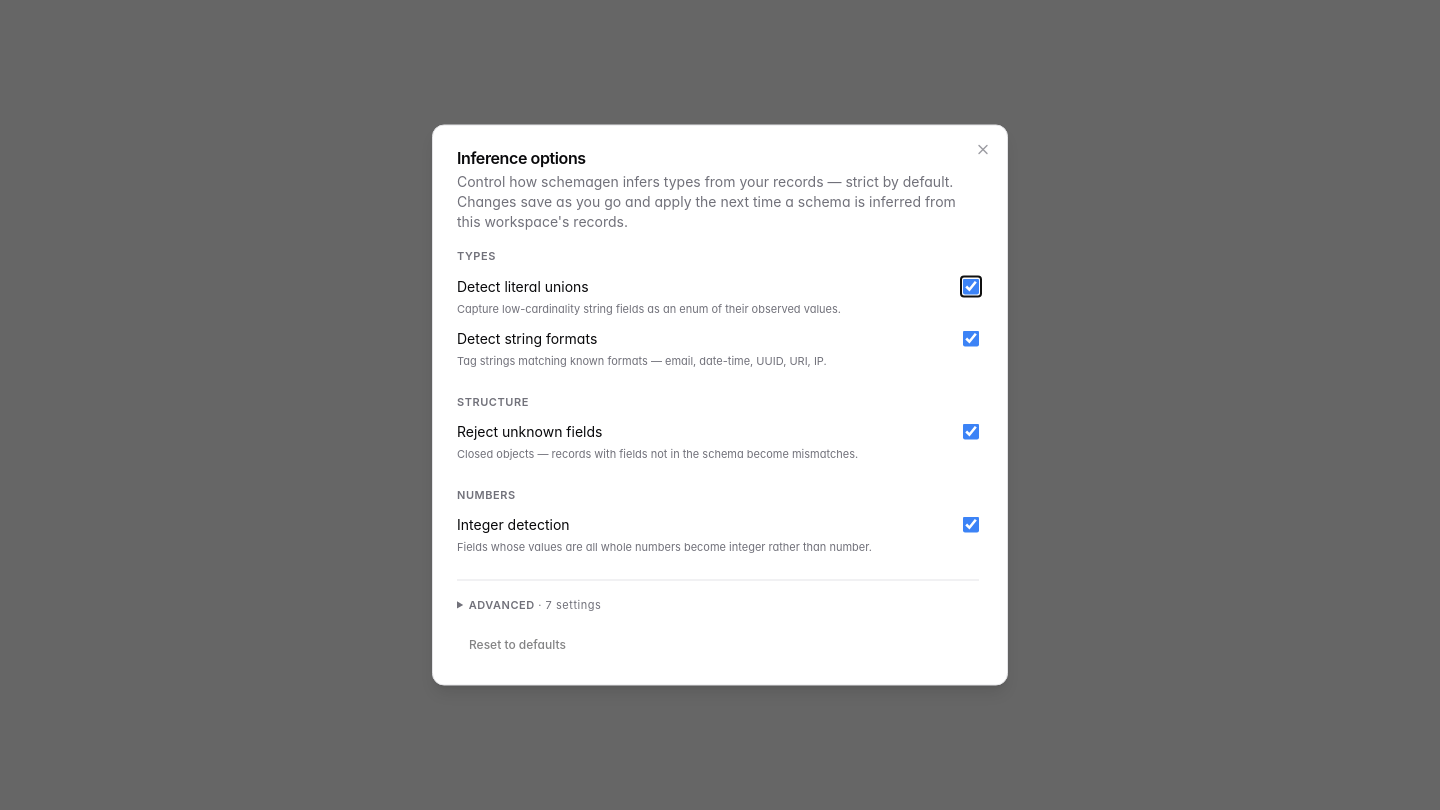
Test case: InferenceOptionsDialog › Z-D7: advanced rows show their default values (sample: Default: 20)
Check: the text "default: 20" is not shown
Click the heading "Advanced · 7 settings" at (529, 604), box left=457, top=596, right=602, bottom=612
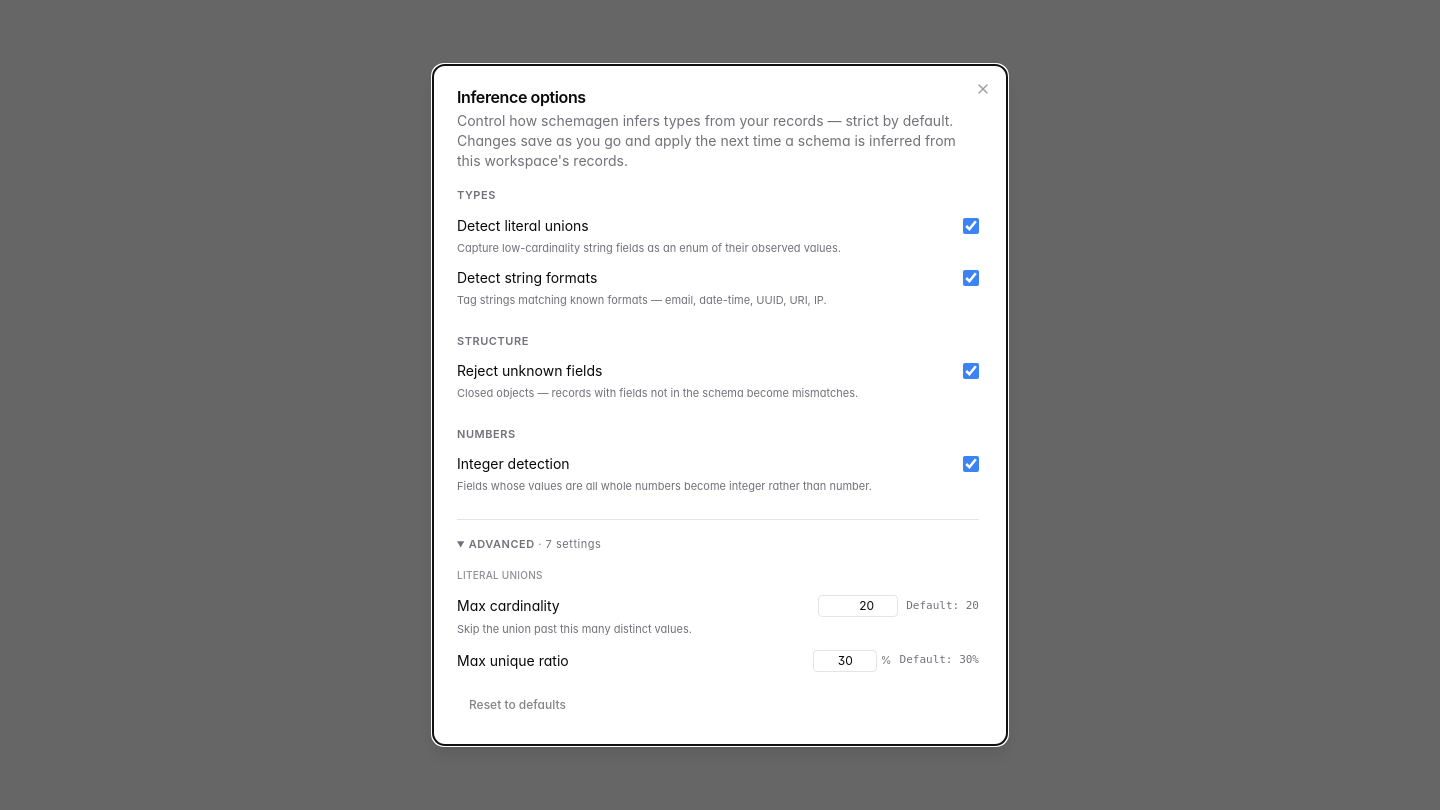
Check: the text "Default: 20" is shown, box left=906, top=598, right=979, bottom=614
